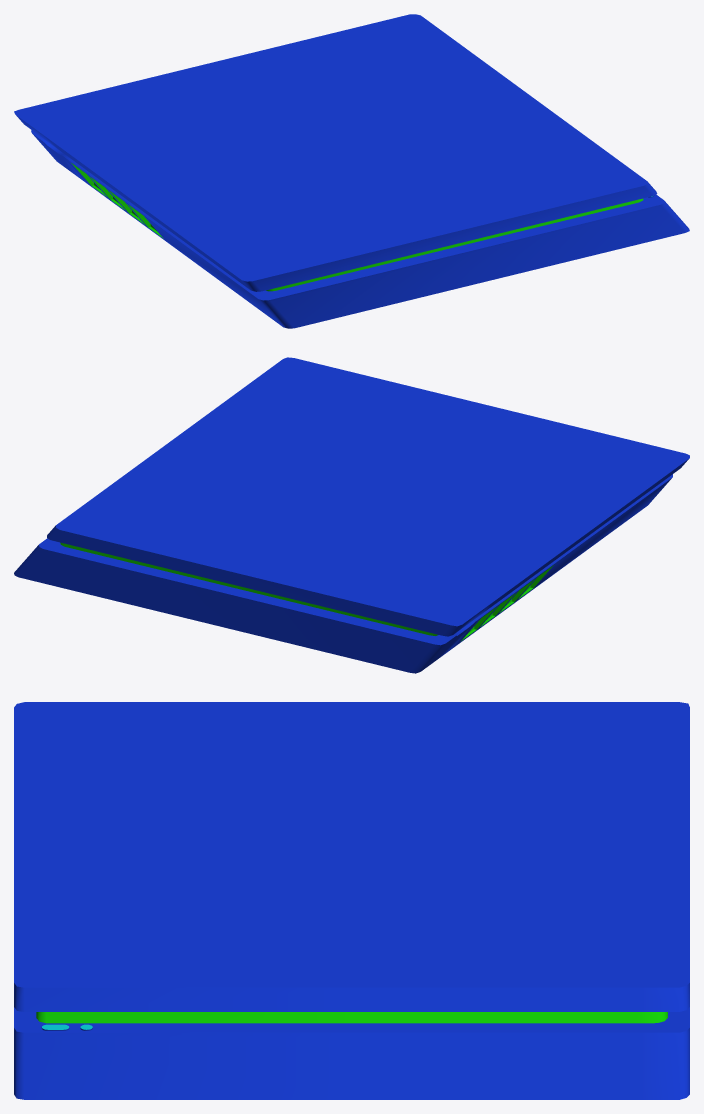
File: PLAYSTATION4.fbx
3 views of the same model, one above another, from view 1: azimuth 30°, elevation 25°; view 2: azimuth 150°, elevation 25°; view 3: azimuth 270°, elevation 25° (orthographic). The views are drawn at different scales.
Parts seen in each view (by area): view 1: PLAYSTATION4; view 2: PLAYSTATION4; view 3: PLAYSTATION4.
Part boxes in pixels (left/top/right/bottom): PLAYSTATION4: left=14, top=14, right=689, bottom=328; PLAYSTATION4: left=14, top=357, right=689, bottom=673; PLAYSTATION4: left=14, top=702, right=689, bottom=1099.
Bounding box in the file's own units: 0.5868 × 0.0734 × 0.5323.
